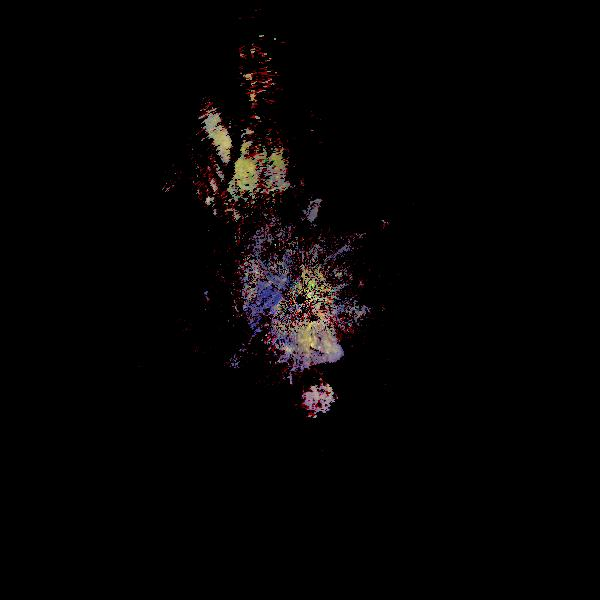roost: (356, 177, 491, 312), (237, 312, 366, 441)
